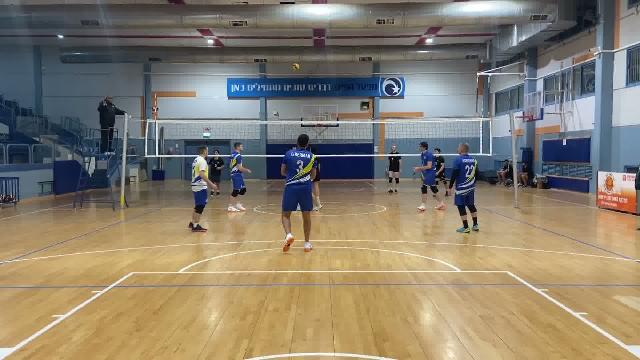ball: (291, 61, 300, 73)
